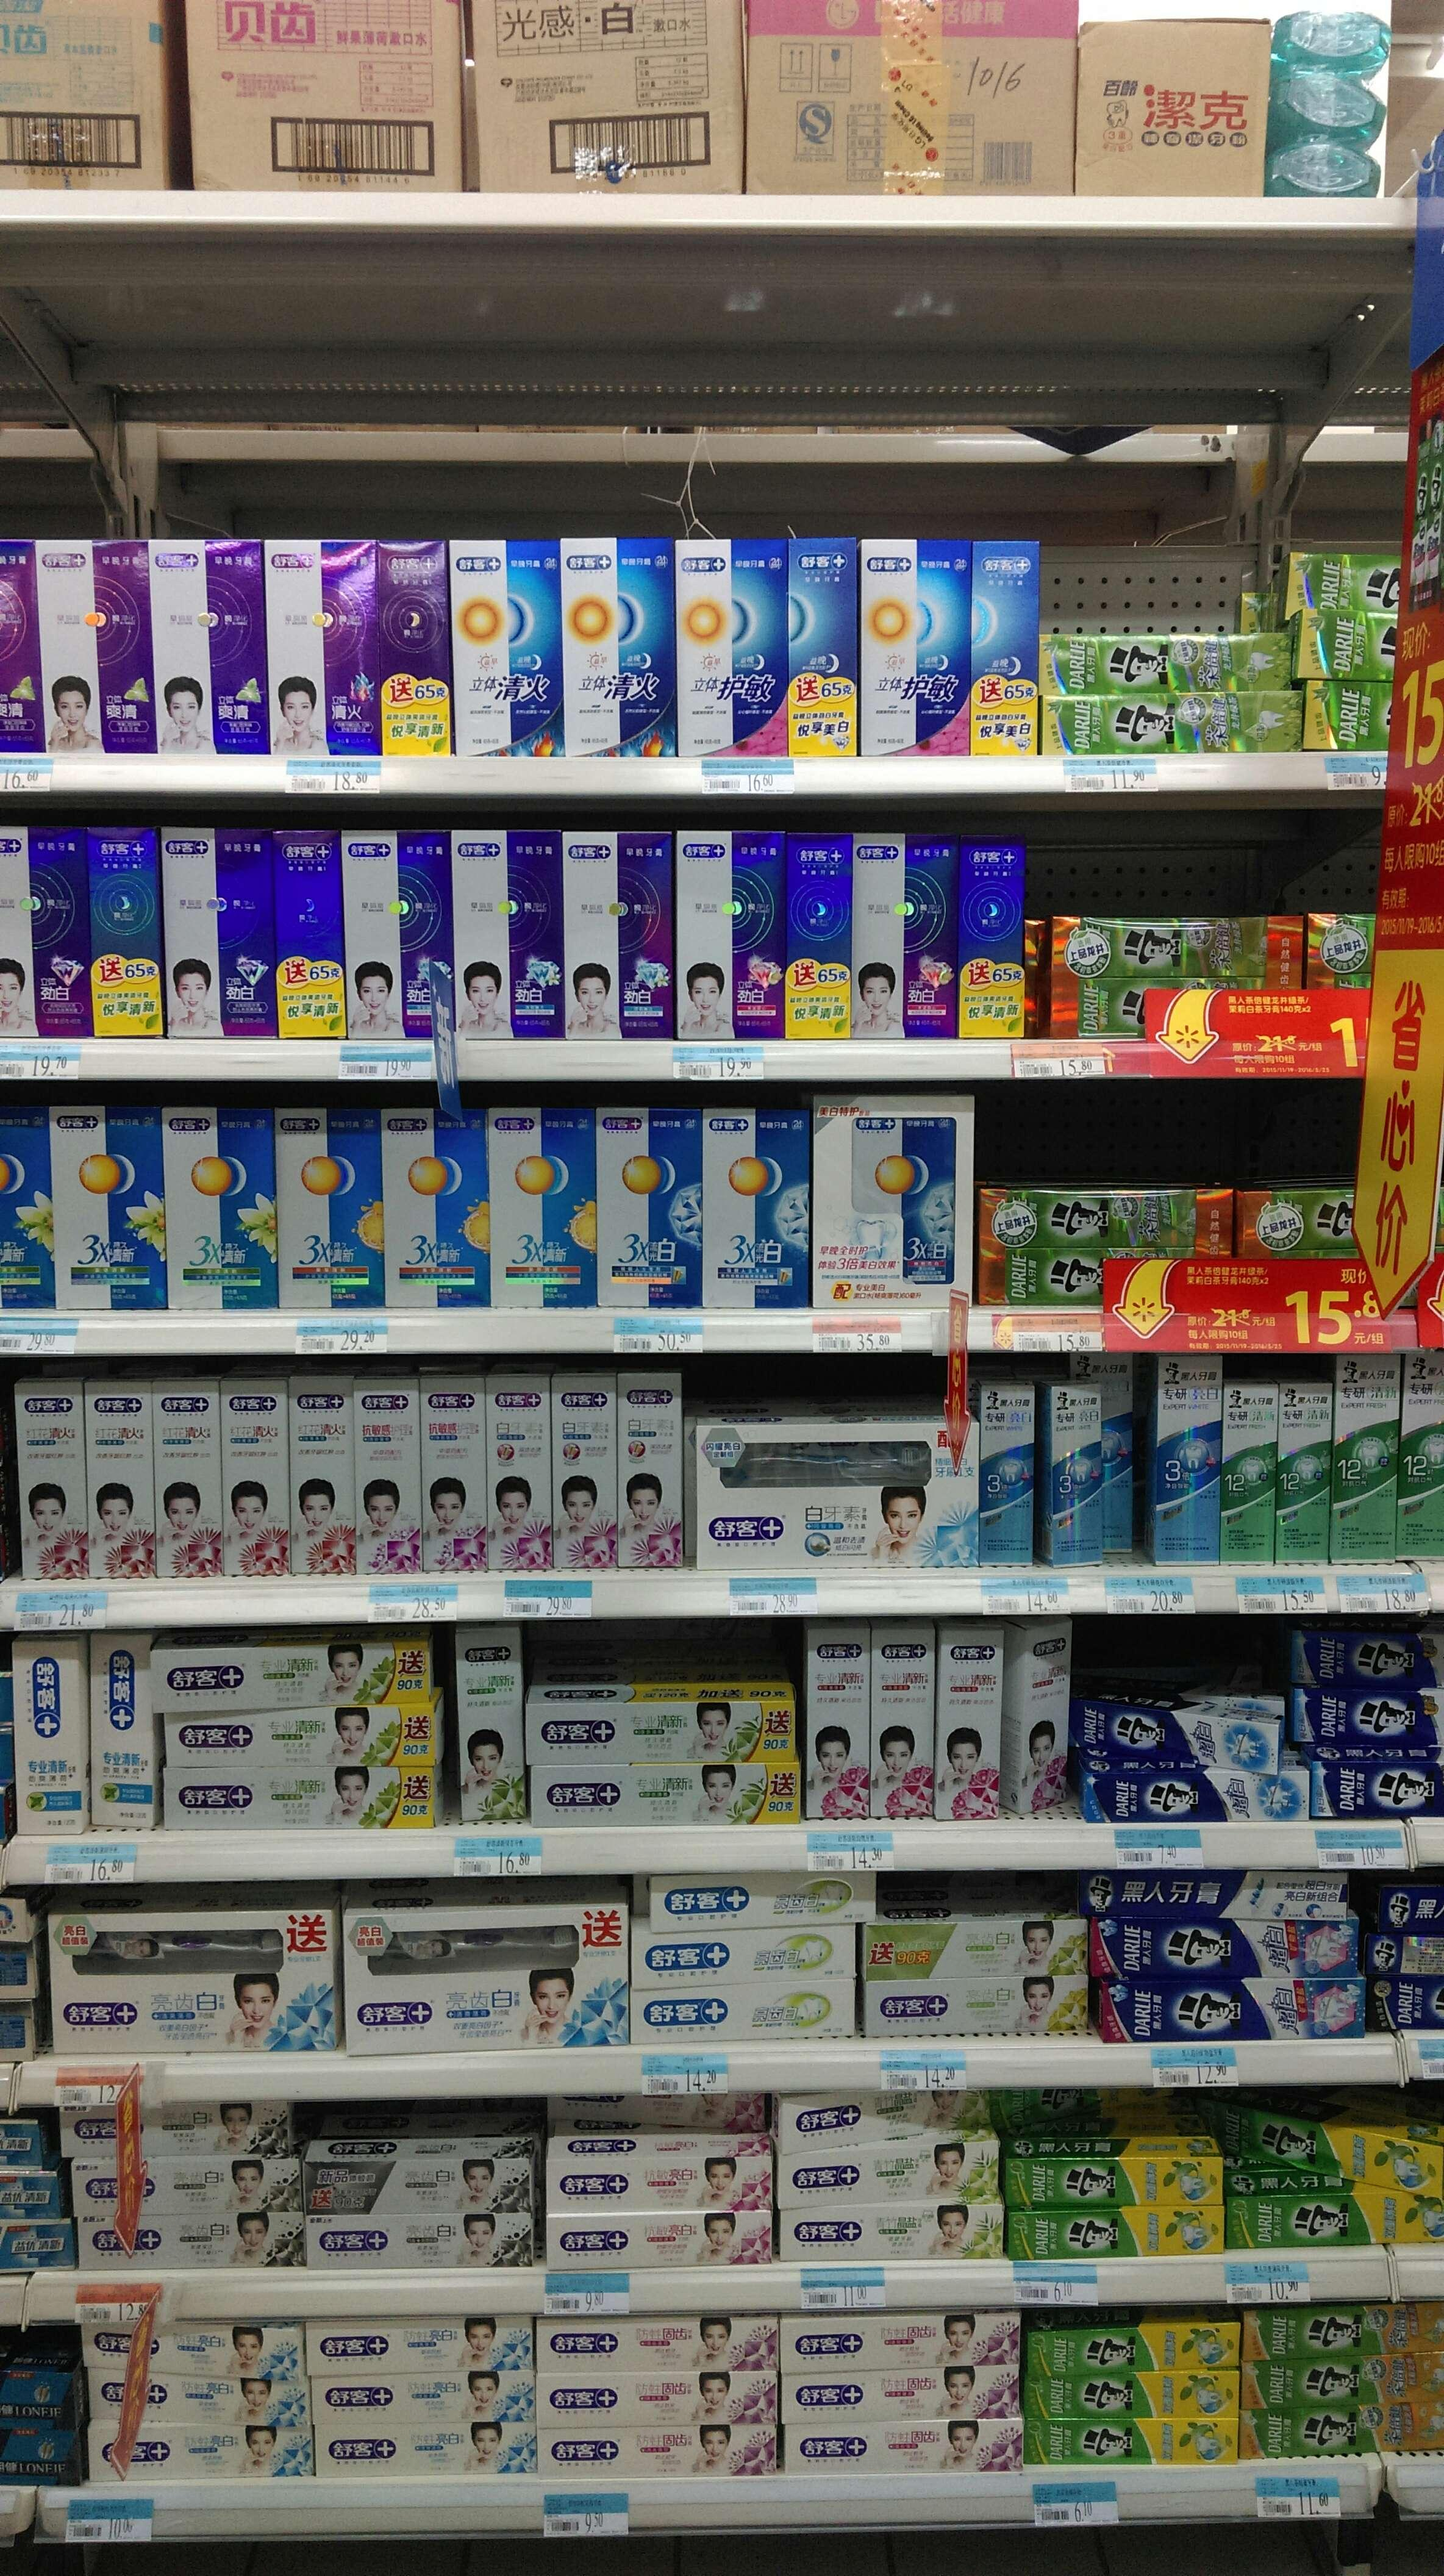empty: (1037, 819, 1373, 915), (1037, 533, 1281, 630), (982, 1086, 1226, 1184), (538, 1617, 802, 1690), (1081, 1626, 1290, 1700)
